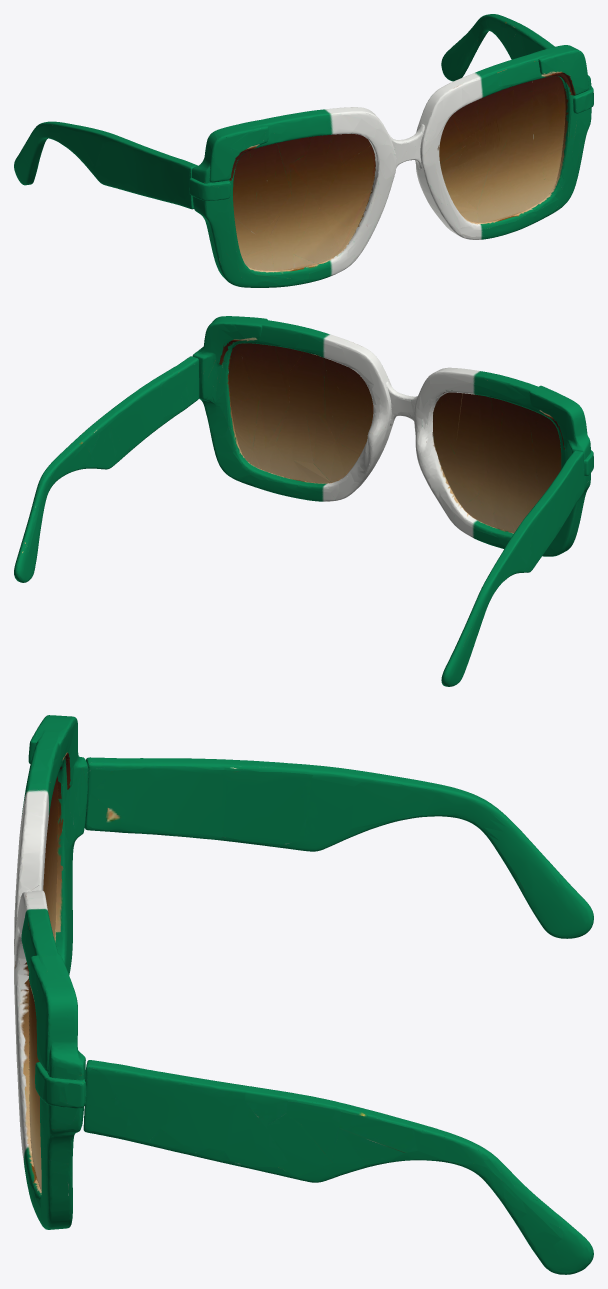
The model's file is bashment-shades-nigeria.glb.
3 renders of one model, top to bottom at view 1: azimuth 30°, elevation 25°; view 2: azimuth 150°, elevation 25°; view 3: azimuth 270°, elevation 25°, orthographic. The views are drawn at different scales.
Visible parts, largest first — view 1: Mesh_0; view 2: Mesh_0; view 3: Mesh_0.
Boxes of the visible parts, x1,y1,x2,y2 form: Mesh_0: (14, 14, 593, 287); Mesh_0: (14, 316, 593, 686); Mesh_0: (14, 715, 593, 1274).
Bounding box in the file's own units: 17.1 × 6.08 × 11.82.
Materials: 1 (1 with a texture image).
